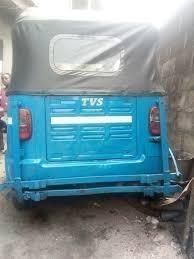keke: (7, 7, 174, 218)
